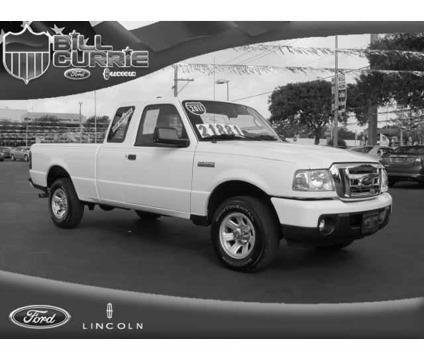car: (27, 95, 395, 274)
